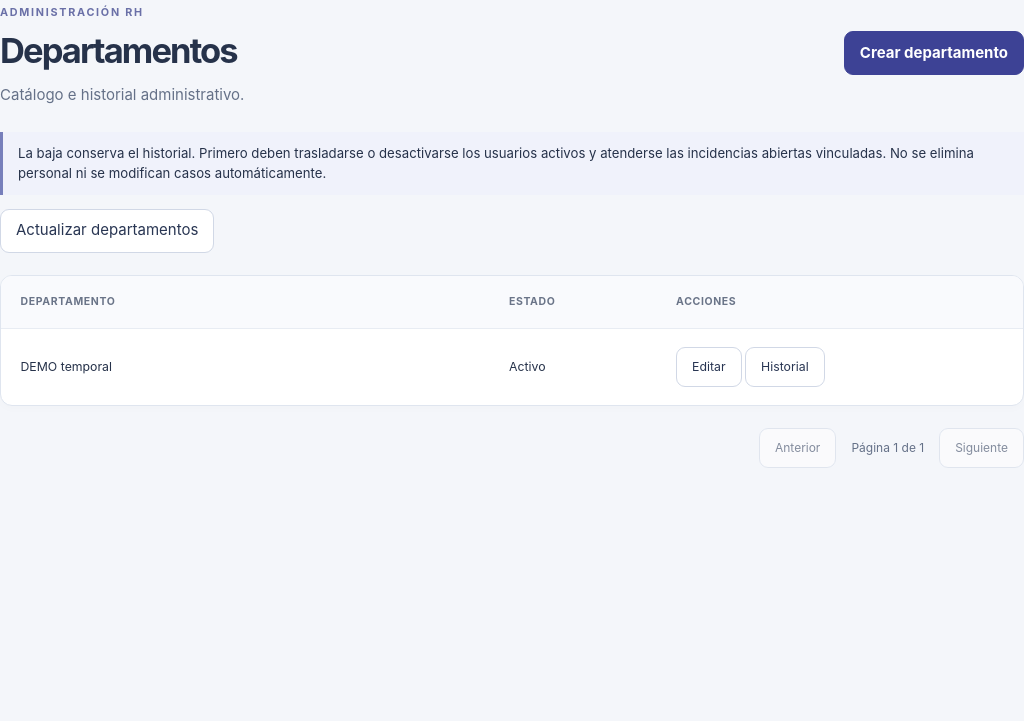
Test: respuesta incierta bloquea edición hasta actualizar, sin reenvío automático
Step 1. Click the button with aria-label "Editar departamento DEMO temporal" → (709, 367), box [676, 347, 742, 387]
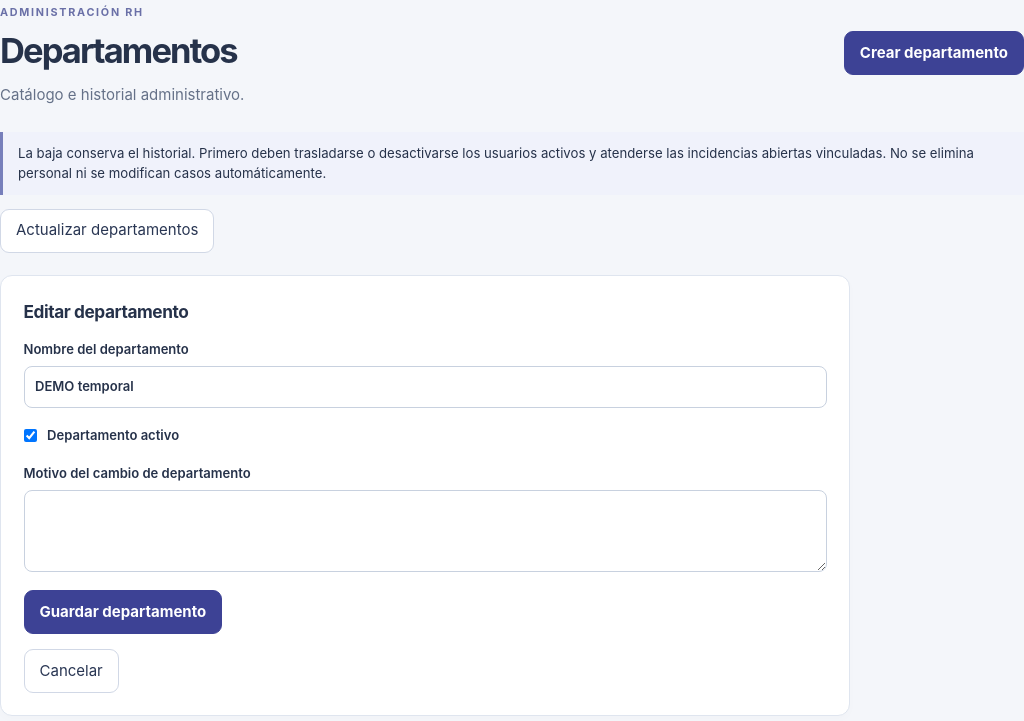
Step 2. Type "Prueba incierta" into the text box labelled "Motivo del cambio de departamento" → (425, 531), box [24, 490, 826, 572]
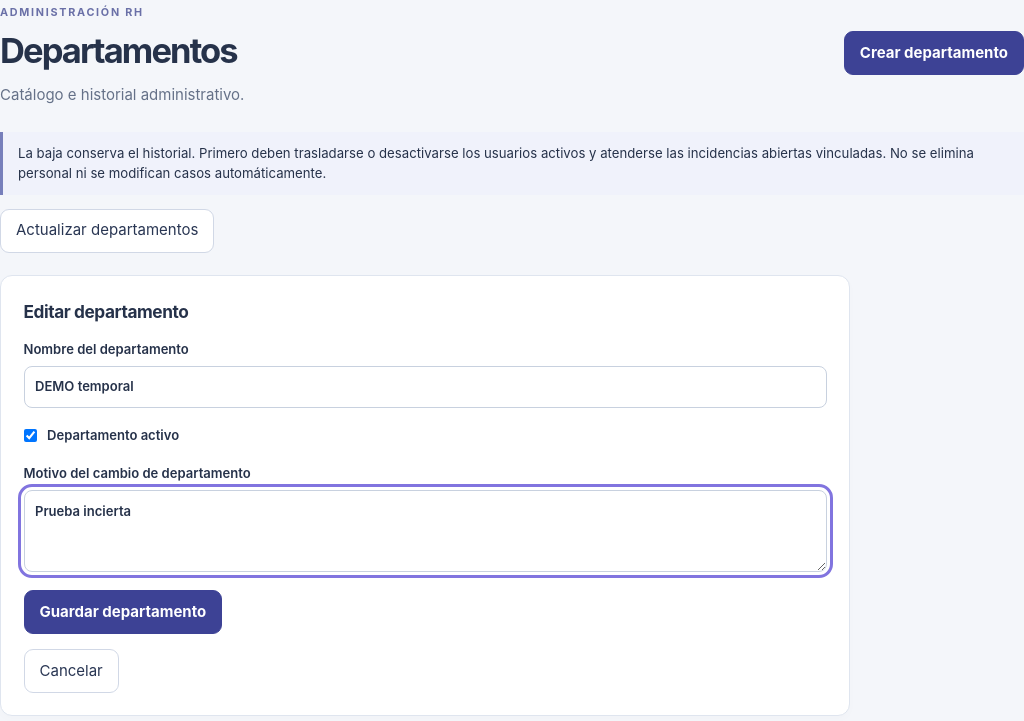
Step 3. Click the button "Guardar departamento" → (123, 612), box [24, 590, 222, 634]
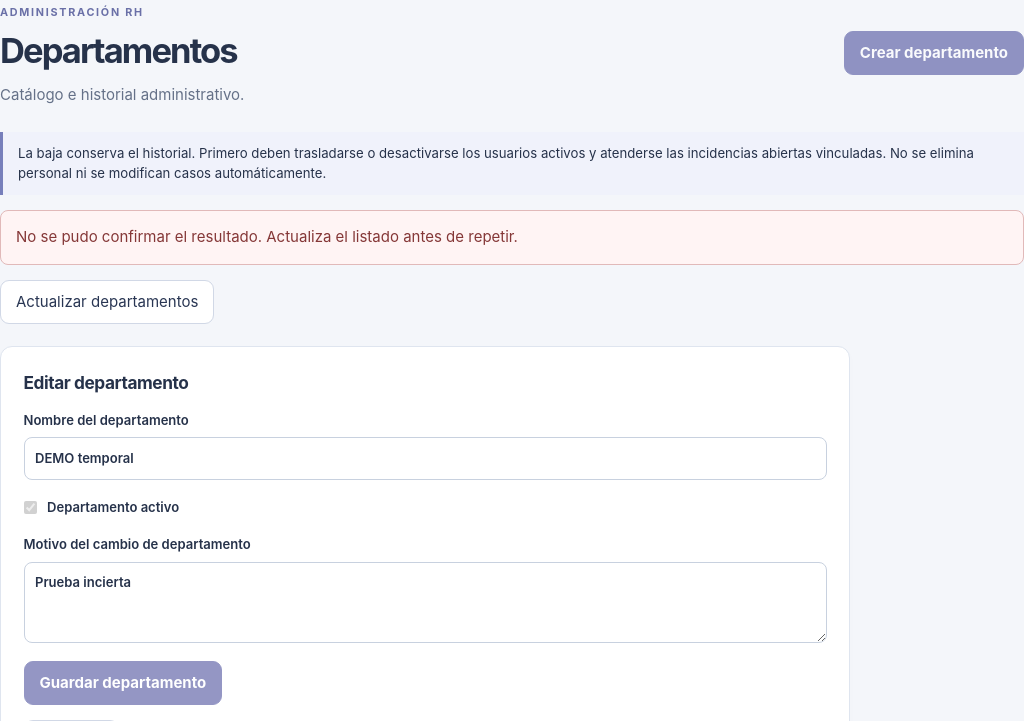
Check: the message shows "confirmar", box [16, 228, 518, 246]
Check: the element named "Guardar departamento" is disabled, box [24, 411, 826, 705]
Check: the button "Crear departamento" is disabled, box [844, 31, 1023, 75]
Step 4. Click the button "Actualizar departamentos" → (107, 302), box [0, 280, 214, 324]
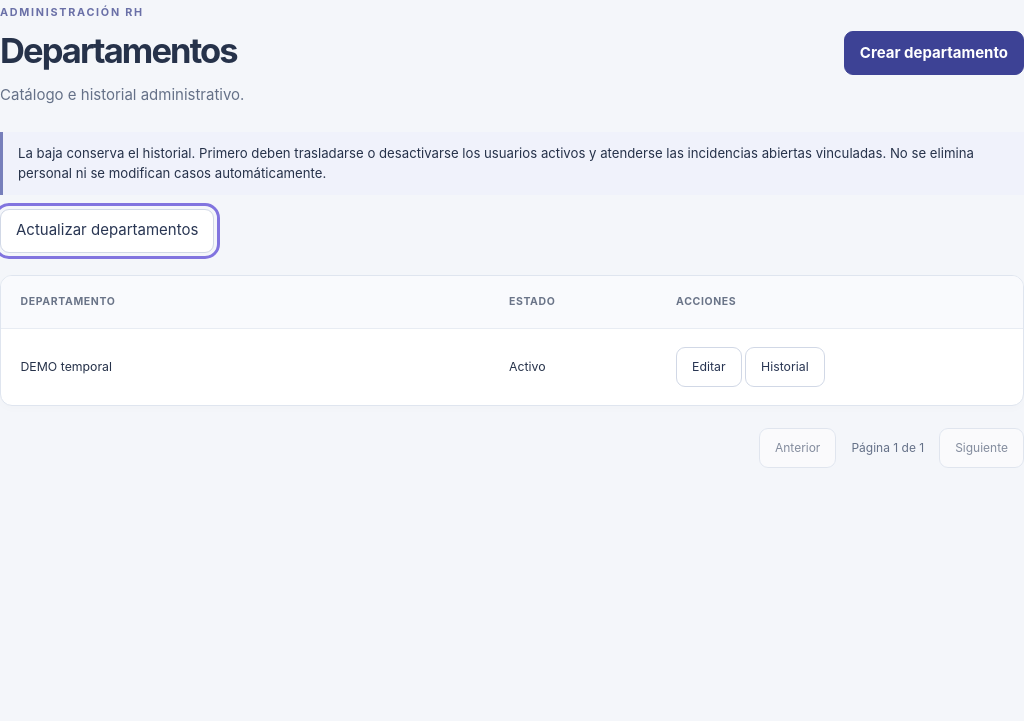
Check: the button "Crear departamento" is enabled, box [844, 31, 1023, 75]
